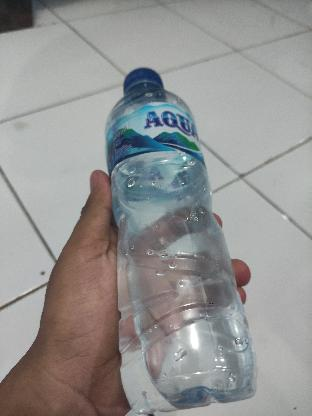Plastic Bottle: (98, 62, 260, 416)
